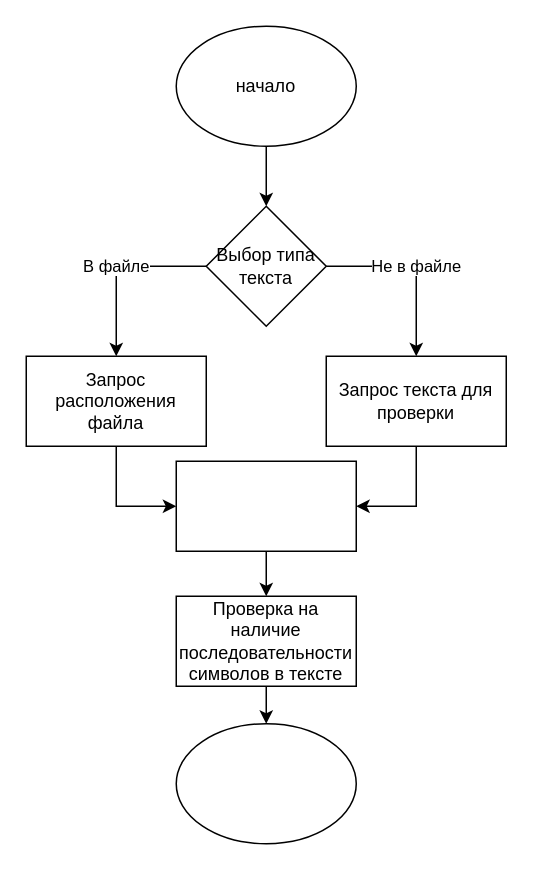
This 533x870 diagram has some shape labels left out. The shapes that lost their labels are listed below. From the top down, each one's centre as x and y in pixels, then its label:
point (265, 505): Запрос последовательности символов для проверки
point (265, 783): конец
